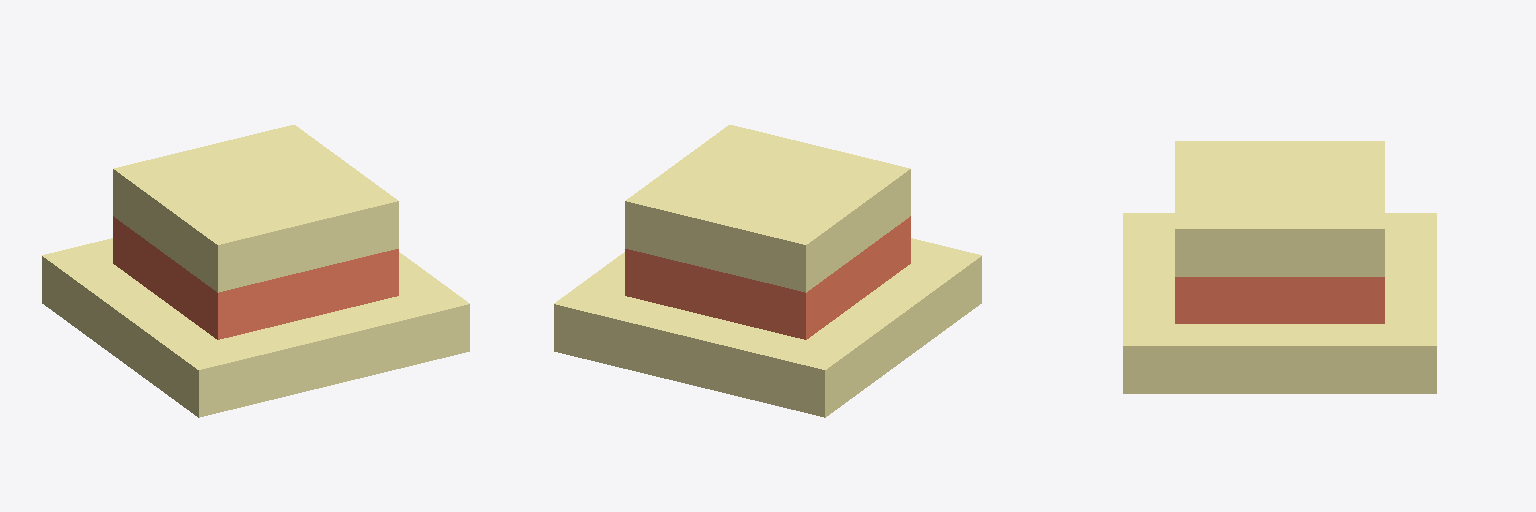
3 renders of one model, left to right at view 1: azimuth 30°, elevation 25°; view 2: azimuth 150°, elevation 25°; view 3: azimuth 270°, elevation 25°, orthographic.
Visible parts, largest first — view 1: object 1; view 2: object 1; view 3: object 1.
Boxes of the visible parts, x1=… form: object 1: x1=42, y1=125, x2=469, y2=417; object 1: x1=554, y1=125, x2=981, y2=417; object 1: x1=1123, y1=141, x2=1436, y2=393.
Bounding box in the file's own units: 0.6 × 0.3 × 0.6.
1 materials, 1 textured.